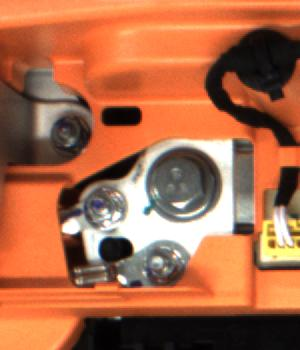nut_b: (139, 149, 221, 220)
screw_s: (85, 187, 125, 230), (143, 238, 177, 283), (47, 114, 79, 155)
